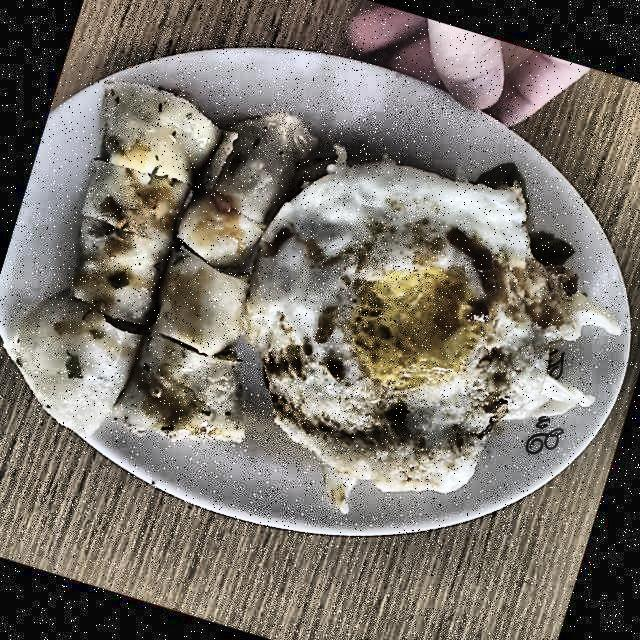Food: (230, 132, 600, 514)
